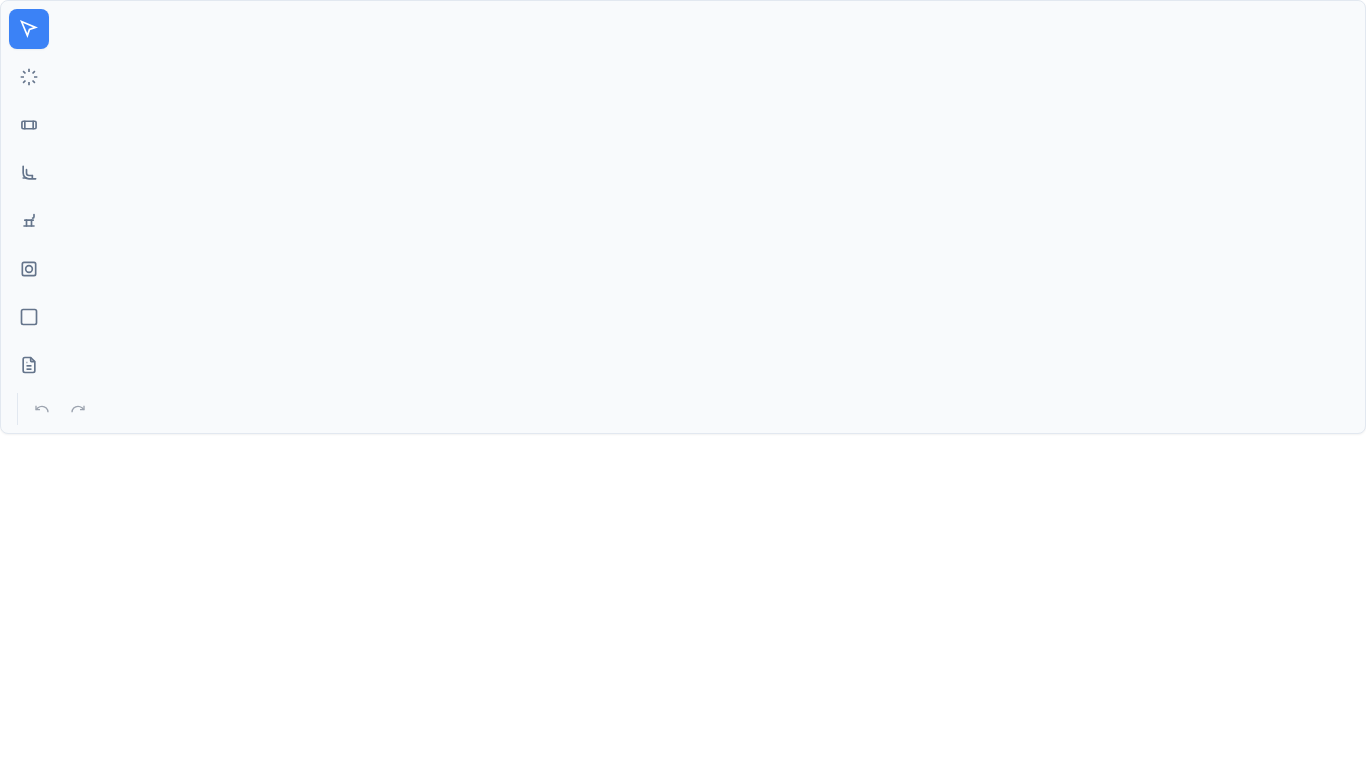
Test: Toolbar - Undo/Redo Integration › Support Workflow › shows continuous trapeze instructions and prompt text when provided
The image size is (1366, 768).
Click the button named "supports".
click(29, 221)  # box [9,201,49,241]
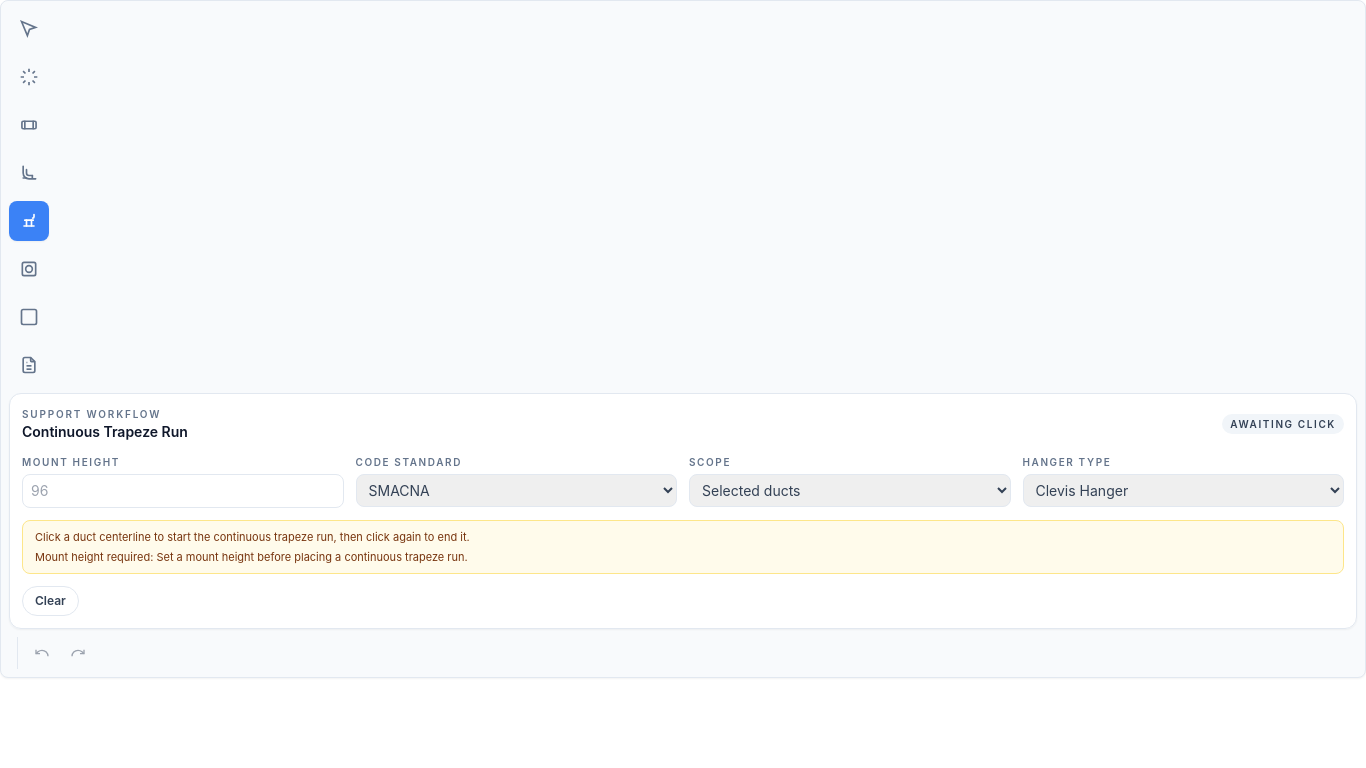
expect the text "Click a duct centerline to start the continuous trapeze run" is shown: met, box [35,530,470,544]
expect the text "Mount height required" is shown: met, box [35,550,150,564]
expect the text "set a mount height before placing a continuous trapeze run" is shown: met, box [156,550,468,564]
